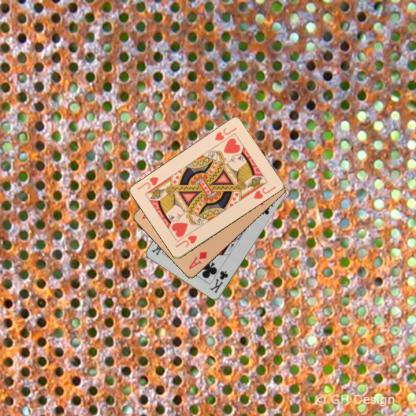Ad: (186, 248, 209, 270)
Jh: (172, 233, 198, 250), (212, 125, 238, 142)
Kc: (206, 268, 230, 294)
